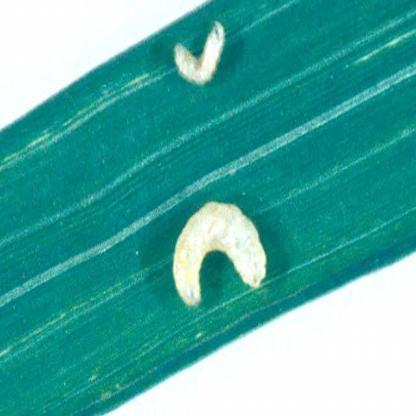whorl-maggot: (171, 194, 270, 313), (166, 20, 233, 92)
